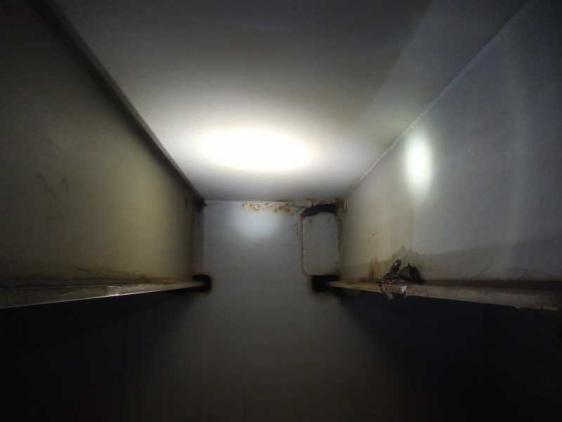corrosion: (239, 190, 306, 219), (390, 262, 424, 292), (354, 255, 379, 283)
